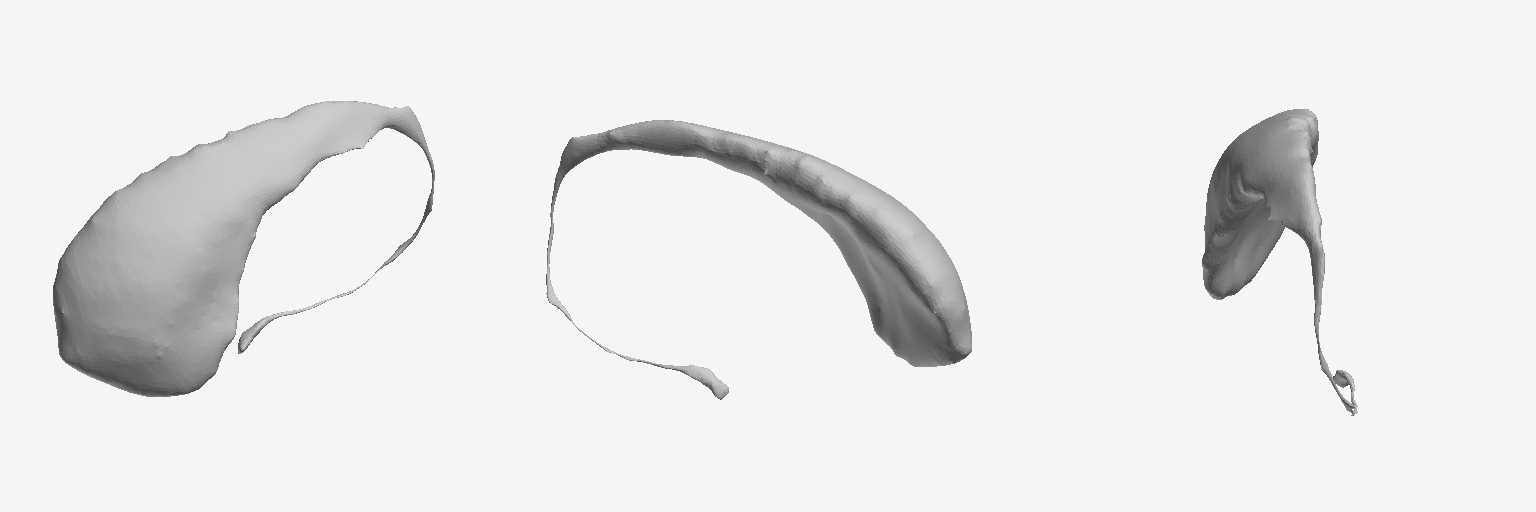
File: R-Caudate.obj
The picture shows the model from 3 angles: view 1: azimuth 30°, elevation 25°; view 2: azimuth 150°, elevation 25°; view 3: azimuth 270°, elevation 25°; orthographic projection.
Visible parts, largest first — view 1: R-caudate_RIGHT-caudate; view 2: R-caudate_RIGHT-caudate; view 3: R-caudate_RIGHT-caudate.
Boxes of the visible parts, x1,y1,x2,y2 form: R-caudate_RIGHT-caudate: [53, 101, 434, 396]; R-caudate_RIGHT-caudate: [546, 120, 971, 399]; R-caudate_RIGHT-caudate: [1202, 109, 1357, 415].
Size of the model in its own units: 88.84 by 53.43 by 30.44.